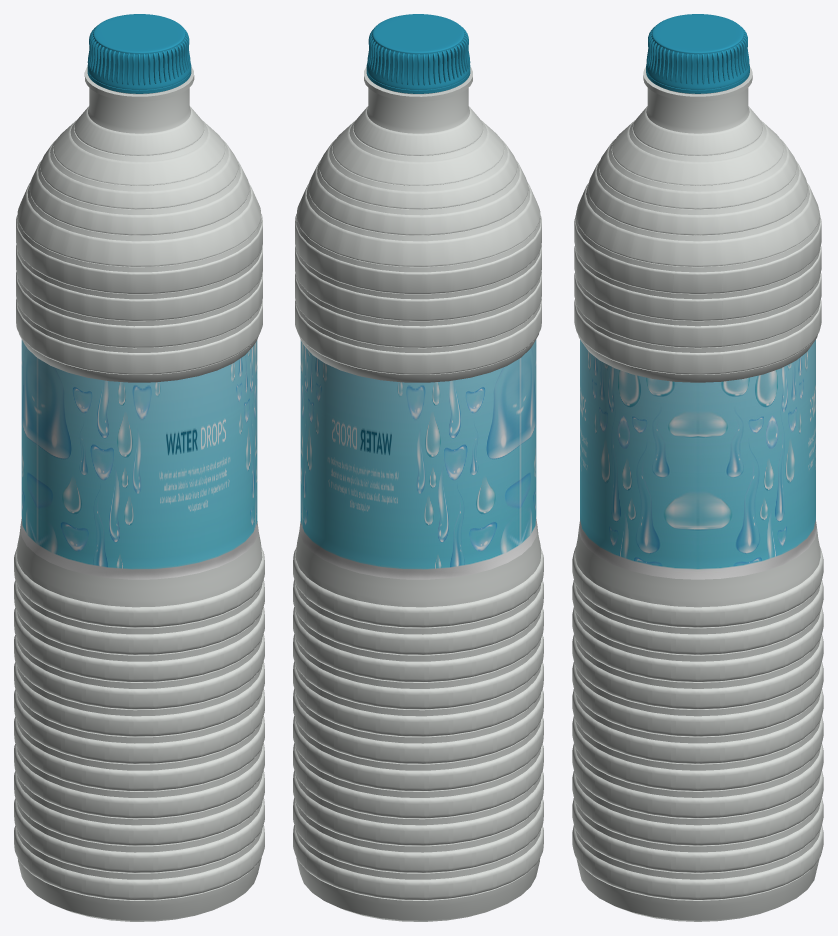
The model's file is bottle-1.glb.
3 renders of one model, left to right at view 1: azimuth 30°, elevation 25°; view 2: azimuth 150°, elevation 25°; view 3: azimuth 270°, elevation 25°, orthographic.
Visible parts, largest first — view 1: Cylinder_water lable_0; view 2: Cylinder_water lable_0; view 3: Cylinder_water lable_0.
Part boxes in pixels (box(x1,y1,x2,y2)): Cylinder_water lable_0: box(14, 14, 264, 921); Cylinder_water lable_0: box(293, 14, 543, 921); Cylinder_water lable_0: box(572, 14, 823, 921).
Bounding box in the file's own units: 0.3549 × 1.34 × 0.3549.
3 materials, 1 textured.
